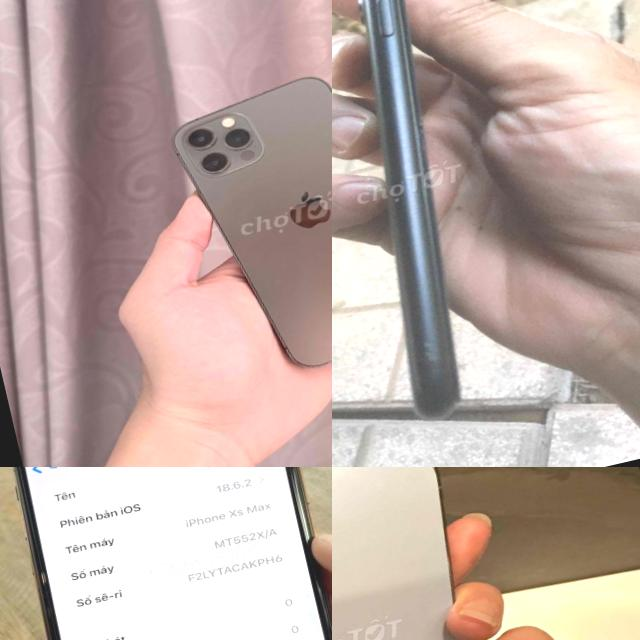gen_12_13: (163, 47, 332, 386), (332, 467, 545, 640)
gen_7_8: (332, 0, 505, 435)
gen_x_xs: (0, 467, 332, 640)
